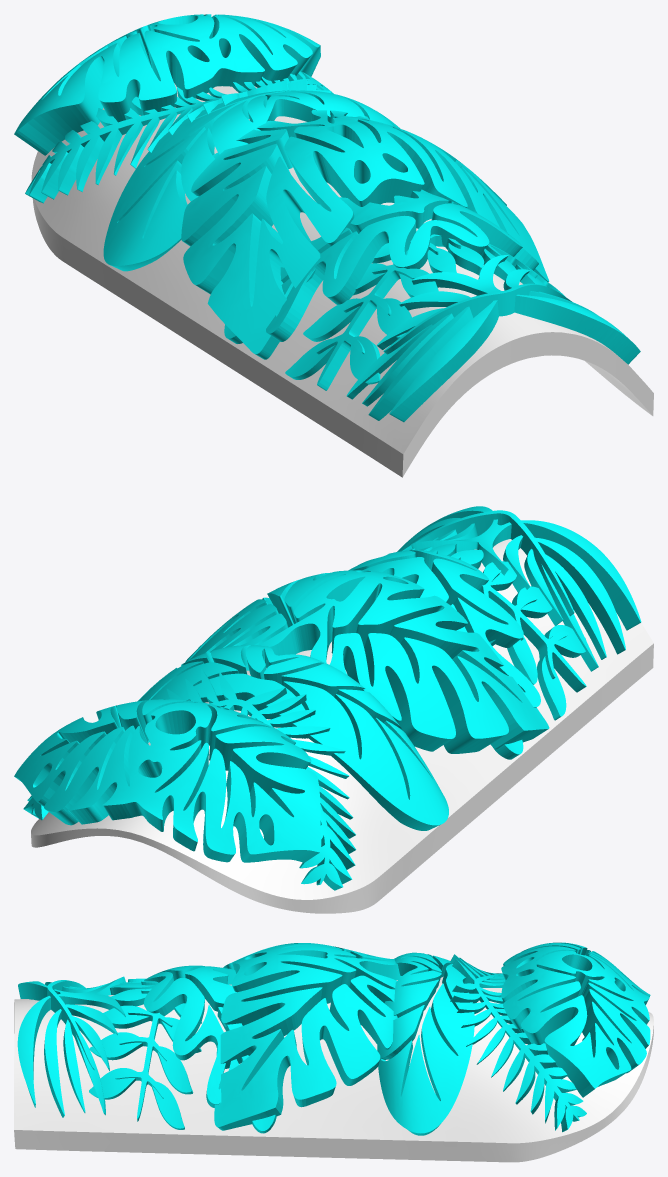
Rendered from jungle-square-web.glb.
The picture shows the model from 3 angles, top to bottom: view 1: azimuth 30°, elevation 25°; view 2: azimuth 150°, elevation 25°; view 3: azimuth 270°, elevation 25°; orthographic projection. The views are drawn at different scales.
Size of the model in its own units: 0.0147 by 0.00766 by 0.0301.
